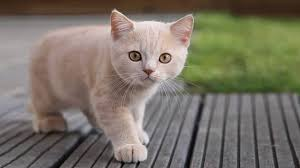Gato: (25, 7, 222, 159)
